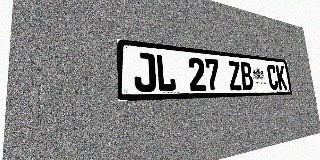2: (188, 57, 206, 91)
7: (204, 58, 221, 91)
B: (239, 62, 254, 90)
C: (266, 64, 279, 90)
J: (133, 52, 156, 92)
K: (275, 65, 287, 90)
L: (155, 54, 176, 92)
Z: (227, 61, 243, 90)
